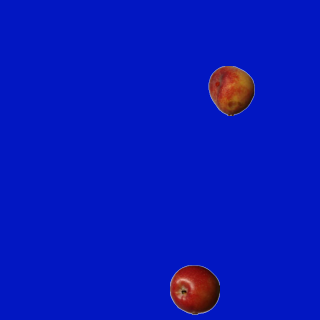Apple Braeburn: (169, 264, 219, 314)
Peach: (206, 65, 256, 115)
